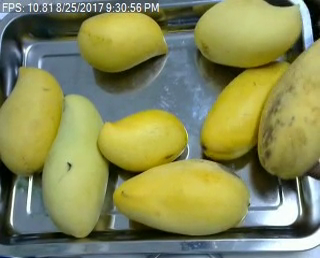Mango: (113, 157, 251, 234), (200, 57, 301, 162), (42, 94, 109, 237), (257, 37, 320, 178), (193, 1, 302, 66), (0, 66, 64, 173), (78, 8, 169, 72), (98, 109, 186, 170)
